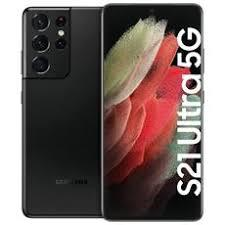Smartphone: (101, 10, 202, 224), (23, 7, 104, 216)
